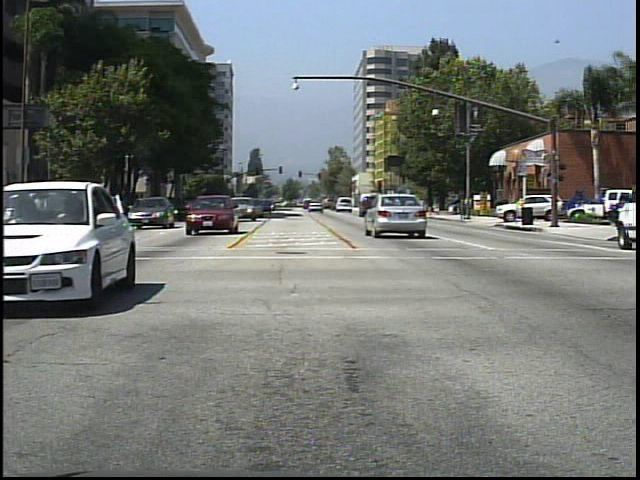person: (460, 190, 475, 222), (432, 191, 442, 215)
